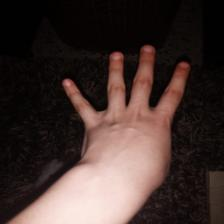four: (57, 44, 192, 183)
